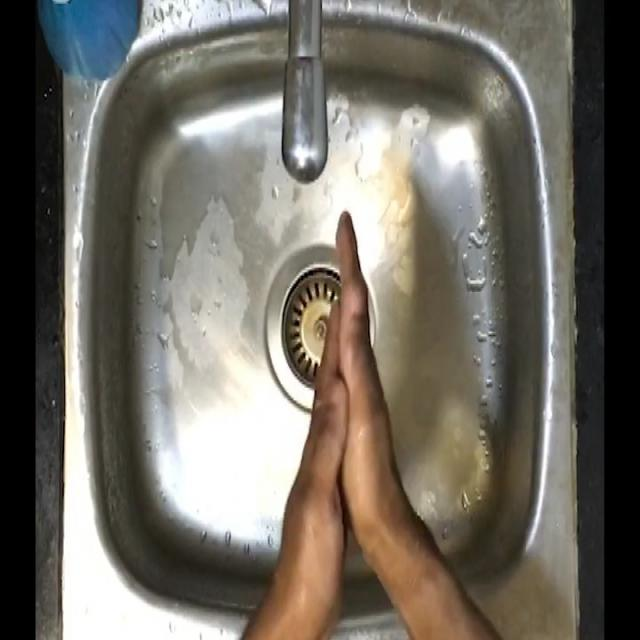step_1: (287, 195, 402, 517)
